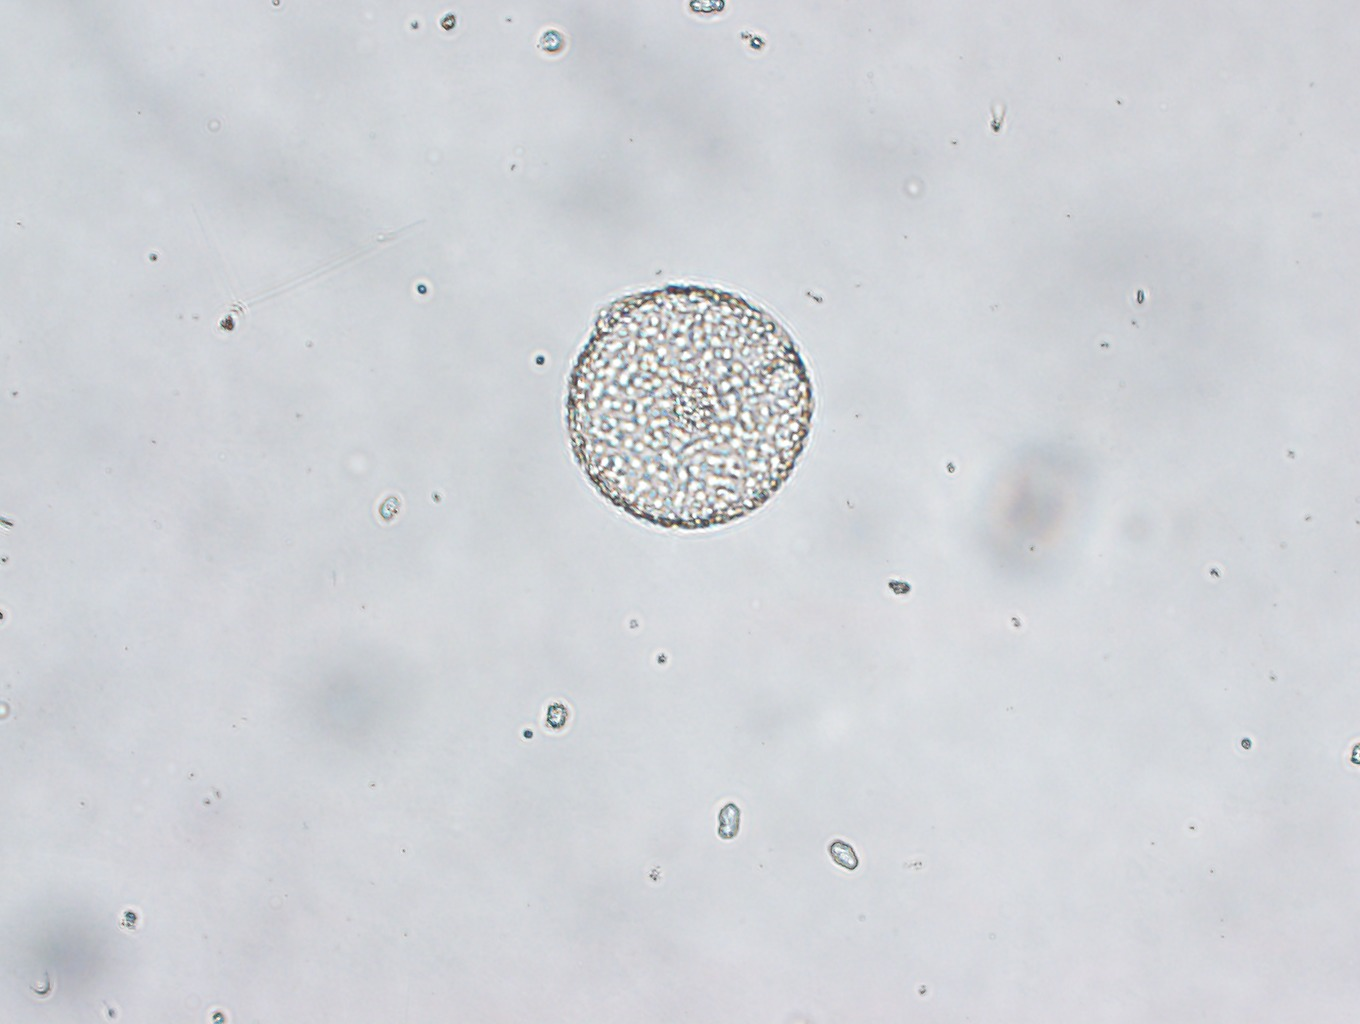coscinodiscus: (562, 279, 810, 530)
